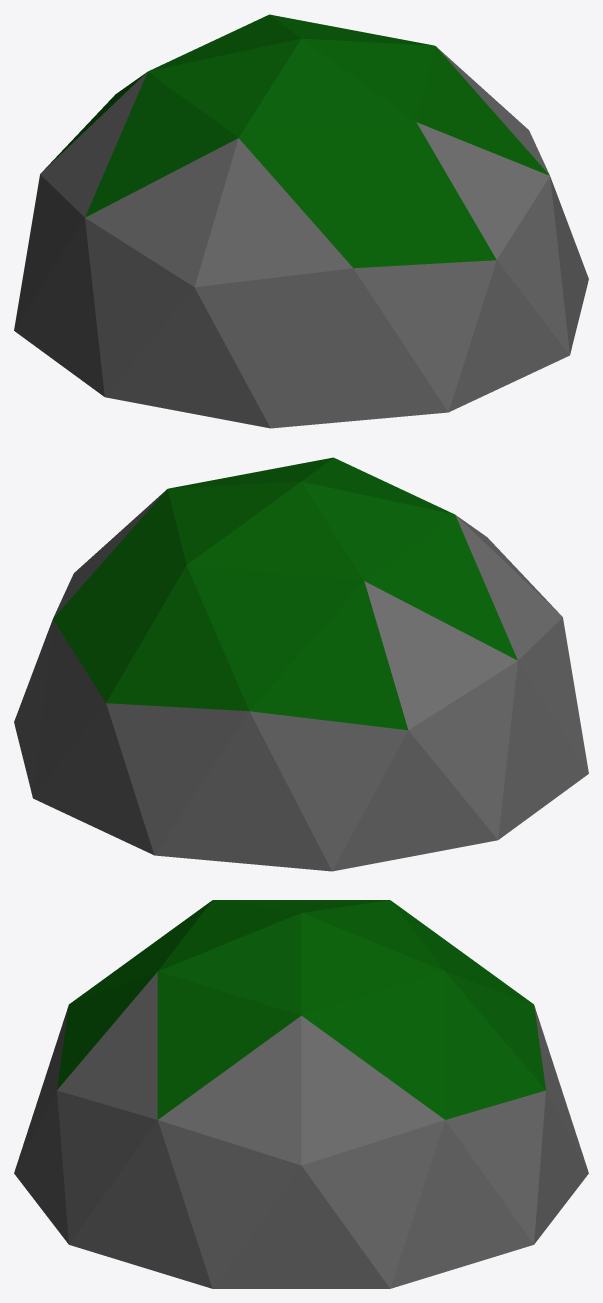
File: rock_a_with_moss.obj
3 renders of one model, top to bottom at view 1: azimuth 30°, elevation 25°; view 2: azimuth 150°, elevation 25°; view 3: azimuth 270°, elevation 25°, orthographic. The views are drawn at different scales.
Visible parts, largest first — view 1: rock_a_with_moss_Icosphere.004; view 2: rock_a_with_moss_Icosphere.004; view 3: rock_a_with_moss_Icosphere.004.
Boxes of the visible parts, x1,y1,x2,y2 form: rock_a_with_moss_Icosphere.004: [14, 14, 588, 428]; rock_a_with_moss_Icosphere.004: [14, 457, 588, 871]; rock_a_with_moss_Icosphere.004: [14, 900, 588, 1288].
Bounding box in the file's own units: 1.9 × 1 × 2.
